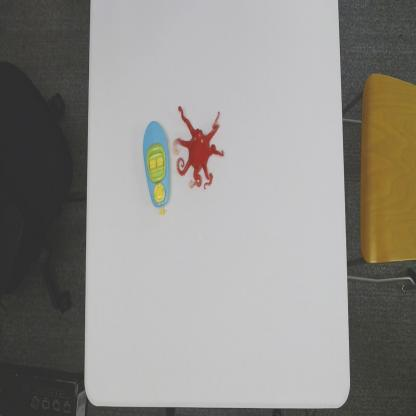Boat: (141, 119, 171, 217)
Octopus: (172, 104, 226, 193)
